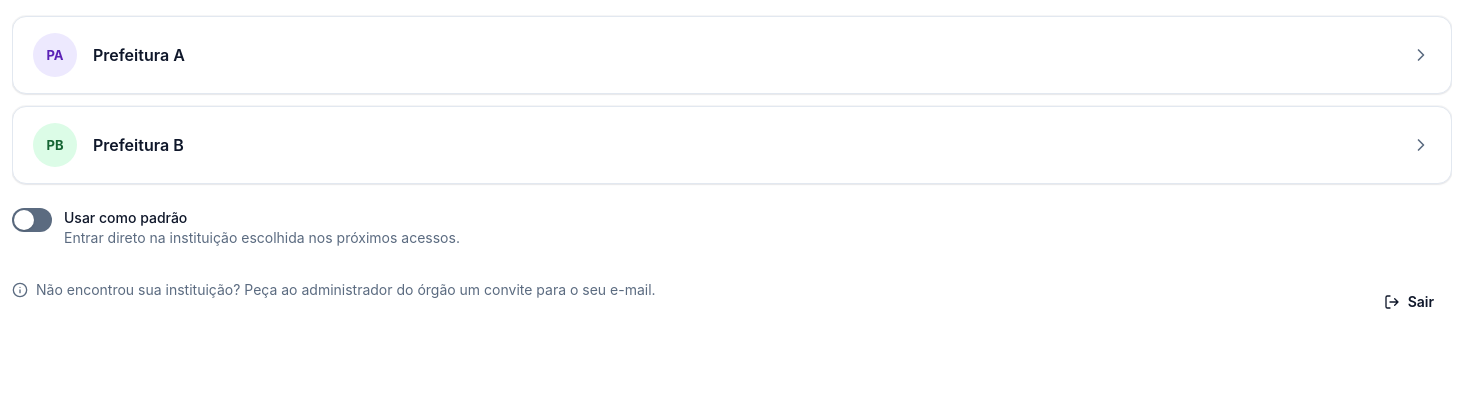
seleção de instituição (FA-01) › erro 403 MEMBERSHIP_INACTIVE vira mensagem inline com role=alert
Click the button "PA Prefeitura A" at (55, 55), box [12, 16, 1452, 94]
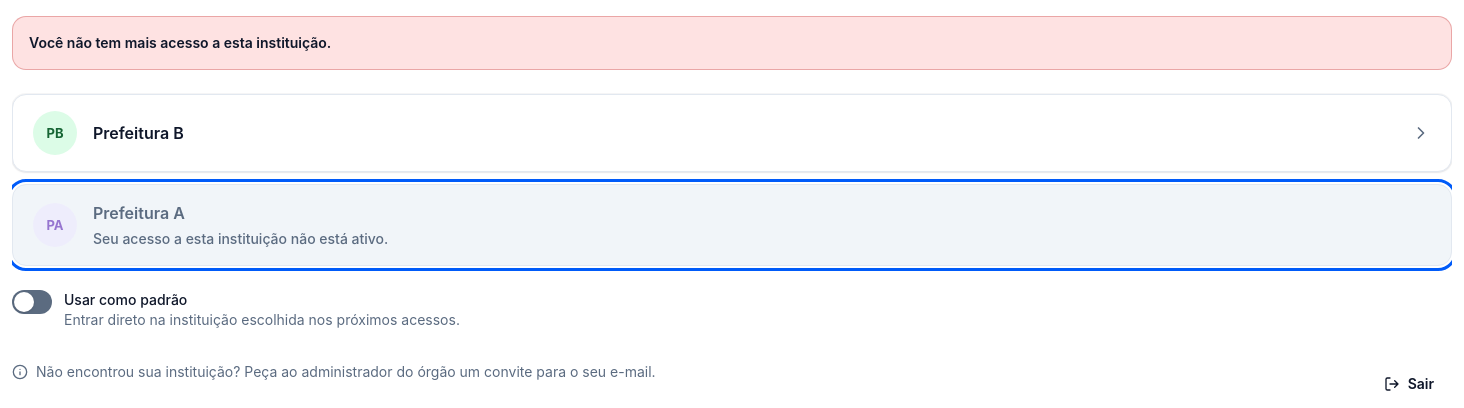
Expected: the message reads "Você não tem mais acesso a esta instituição.", [29, 34, 331, 51]
